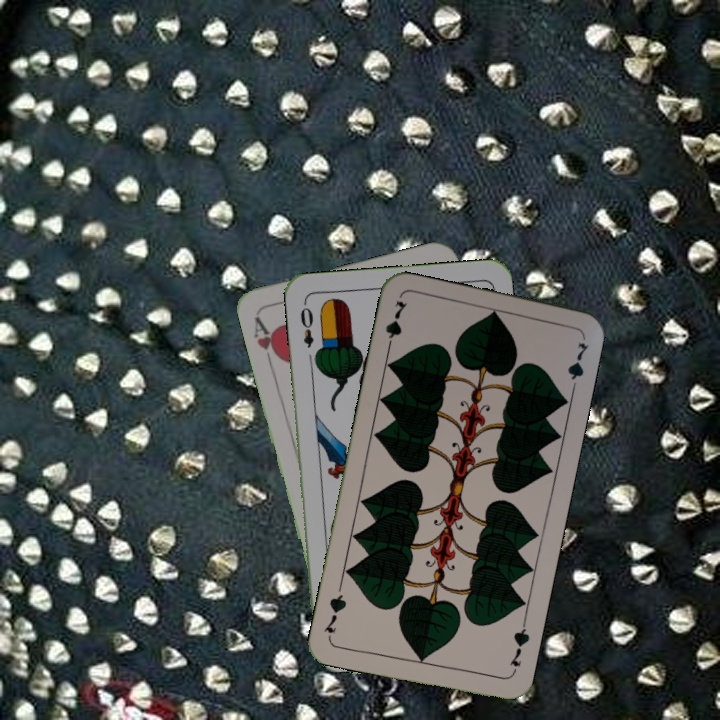EO: (296, 298, 316, 350)
G7: (381, 297, 410, 355), (505, 618, 532, 677)
HA: (250, 313, 284, 371)
